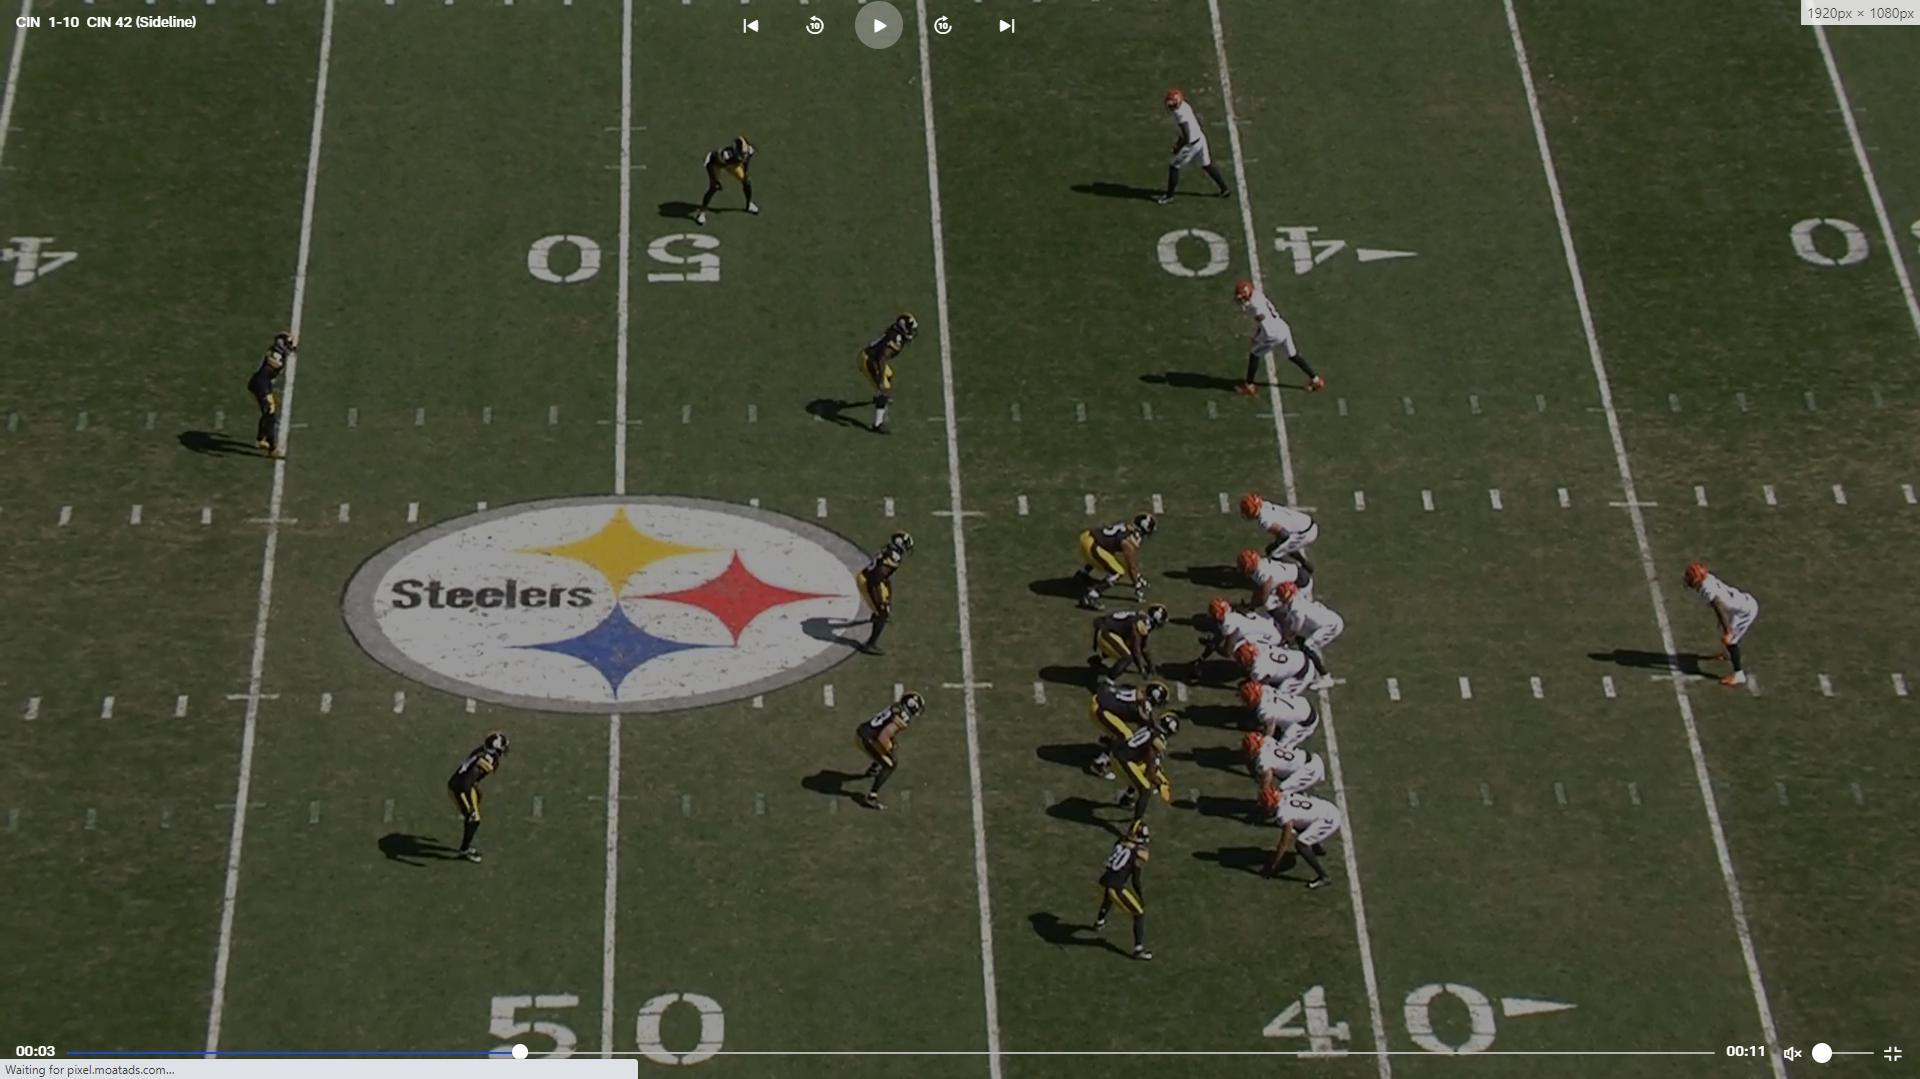player: (1232, 277, 1336, 406), (1680, 558, 1766, 695), (1078, 818, 1156, 963), (1148, 84, 1234, 207), (1080, 678, 1174, 781), (1255, 785, 1343, 894), (439, 730, 507, 871), (1070, 508, 1161, 612), (853, 305, 921, 440), (851, 523, 915, 663), (852, 686, 920, 809), (1108, 710, 1184, 817), (1276, 583, 1346, 694), (241, 330, 299, 463), (1080, 600, 1168, 684), (1203, 601, 1291, 682), (697, 130, 767, 226), (1239, 490, 1322, 567), (1244, 734, 1327, 796), (1244, 682, 1318, 748), (1238, 553, 1316, 612), (1238, 638, 1319, 692)
